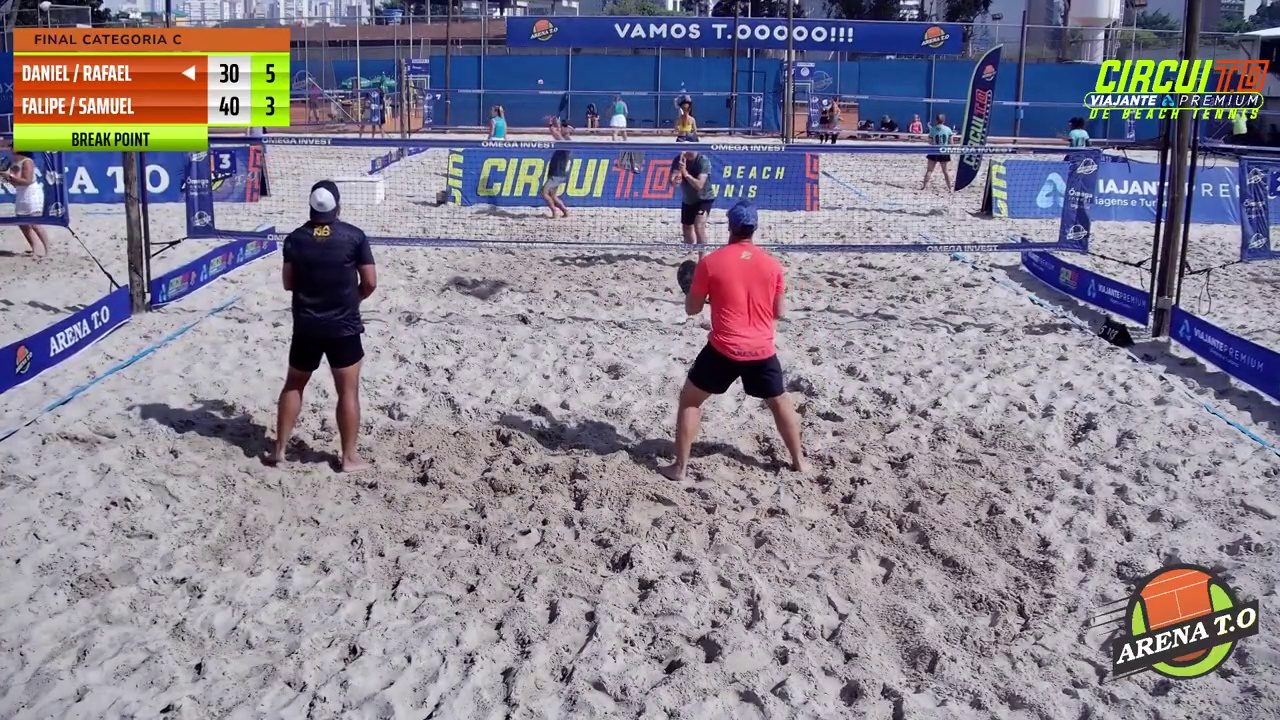court_line: (541, 0, 676, 462)
